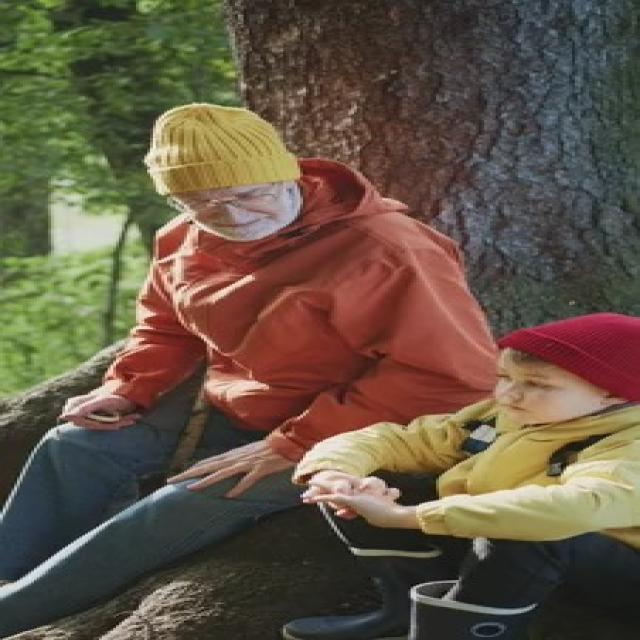Jacket_Wearer: (49, 201, 517, 466)
Person: (53, 107, 512, 639)
